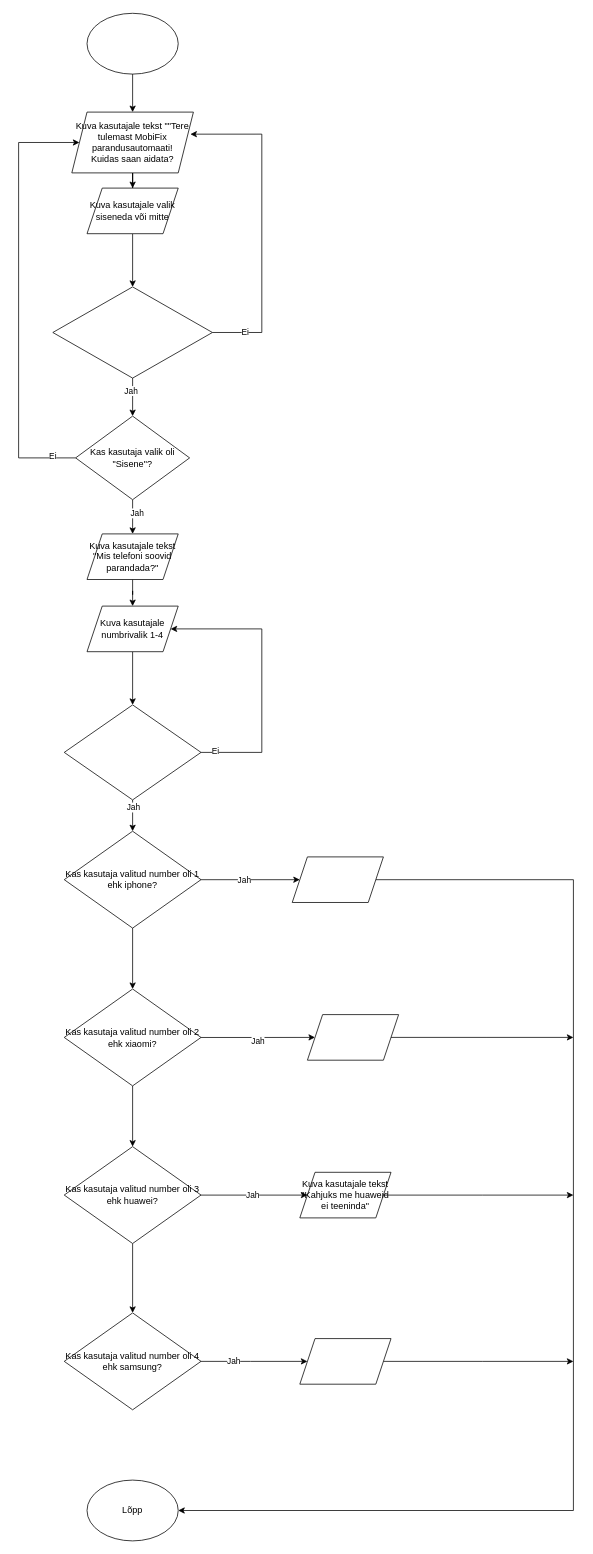
Some shapes in this 593 by 1554 pixel diagram are drawn without their labels. Here are the shapes that lost their labels. From the top down, the box of each, then its label:
(86, 13, 178, 74): Algus
(52, 286, 212, 378): Kas kasutaja on sisestanud oma valiku?
(63, 704, 201, 800): Kas kasutaja on valinud numbri 1-4?
(291, 856, 383, 902): Kuva kasutajale tekst "Saad oma iphone tagasi 1 nädala pärast"
(307, 1014, 399, 1060): Kuva kasutajale tekst "Sinu xiaomi on valmis 2 kuu pärast"
(299, 1338, 391, 1384): Kuva kasutajale tekst "Sinu samsung on valmis 2 päeva pärast"
